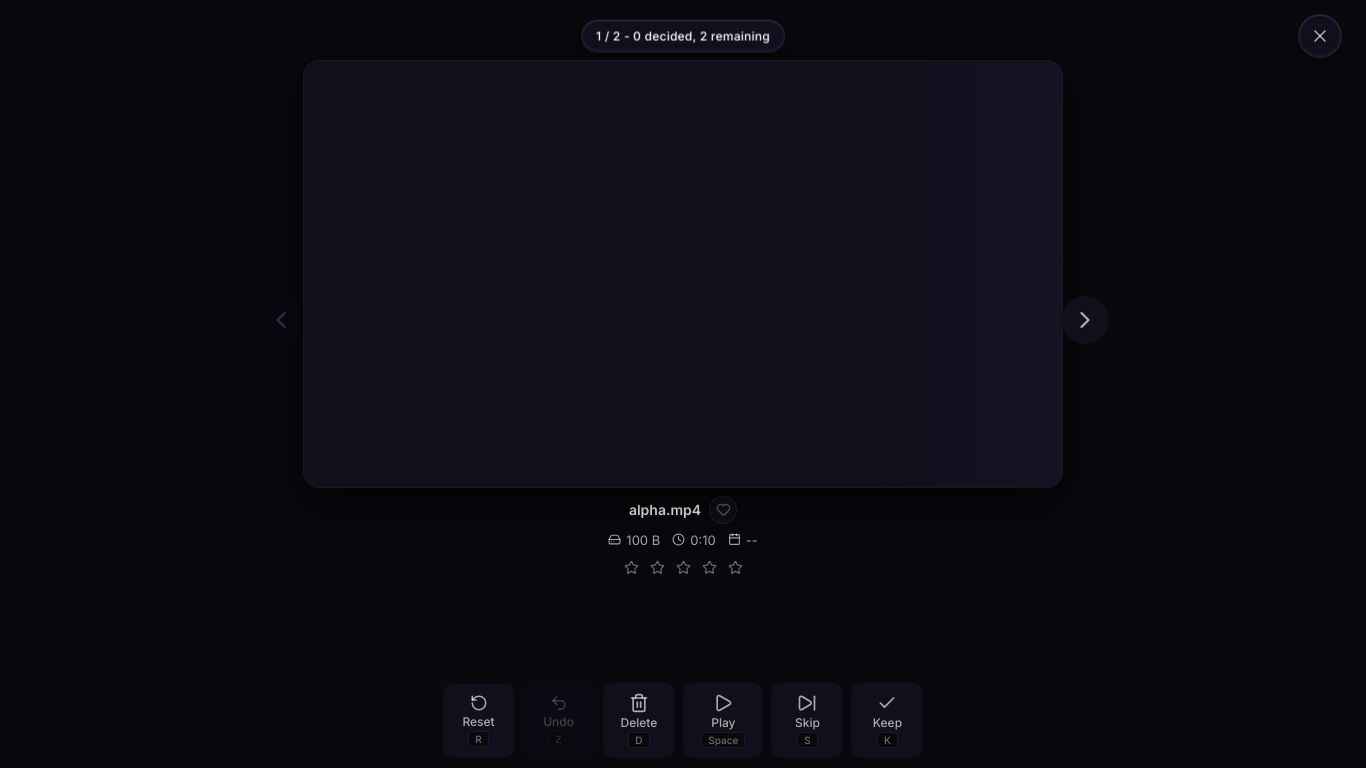
Test: ReviewMode behavior › marks the current video for deletion and advances to the next review item
Check: the text "alpha.mp4" is shown, box x1=629 y1=501 x2=701 y2=518
Click the button "Delete D": (639,720) x1=603 y1=683 x2=675 y2=758
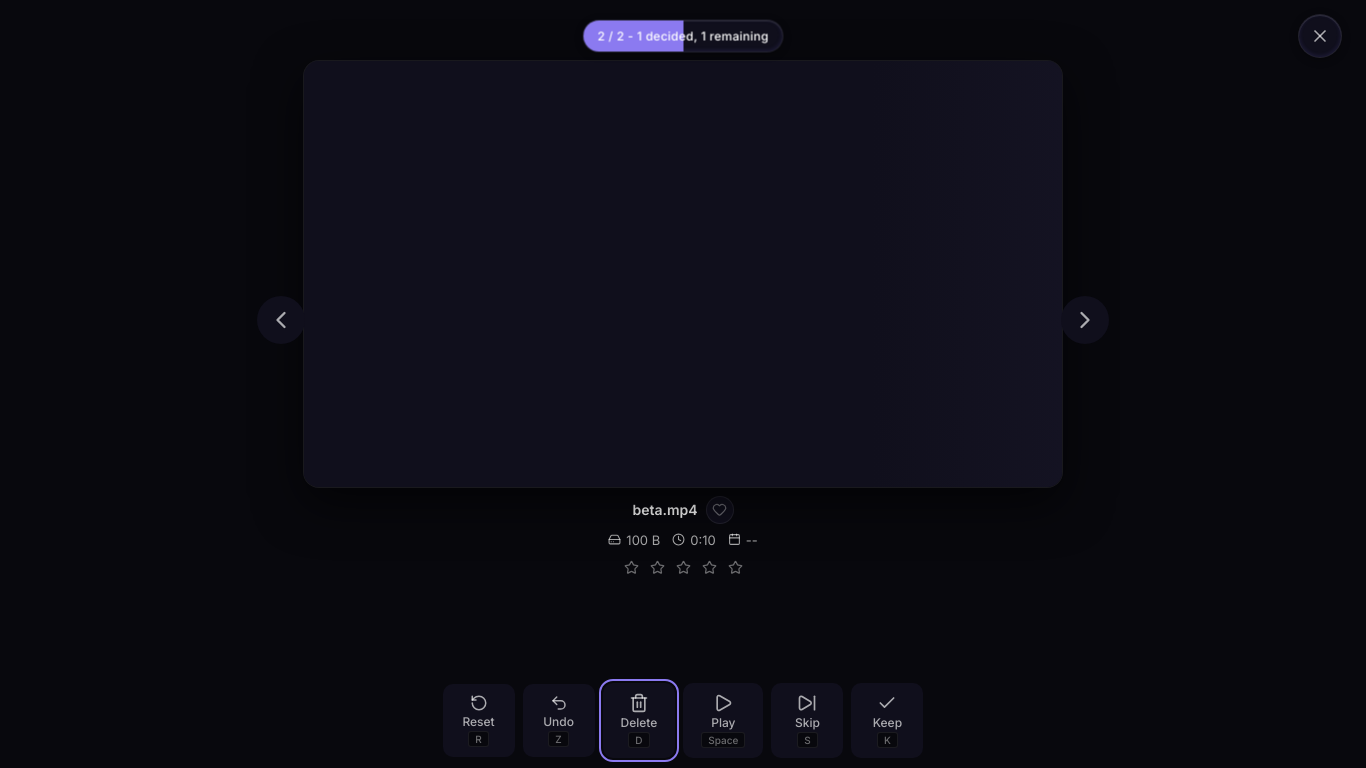
Check: the text "beta.mp4" is shown, box x1=632 y1=501 x2=698 y2=518
